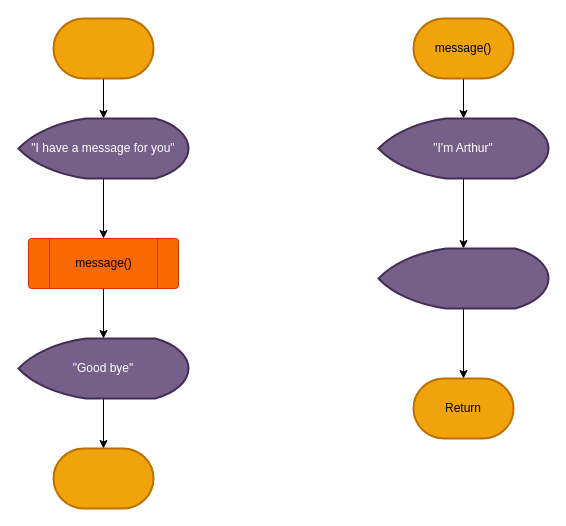
Image size: 566x526. Some labels were removed from this diagram. The shapes that lost their labels are listed below. From the top down, each one's box as (x1, y1, x2, y2) in pixels, then its label:
(52, 17, 154, 79): Start
(377, 247, 549, 309): "King of Britons"
(52, 447, 154, 509): Stop
